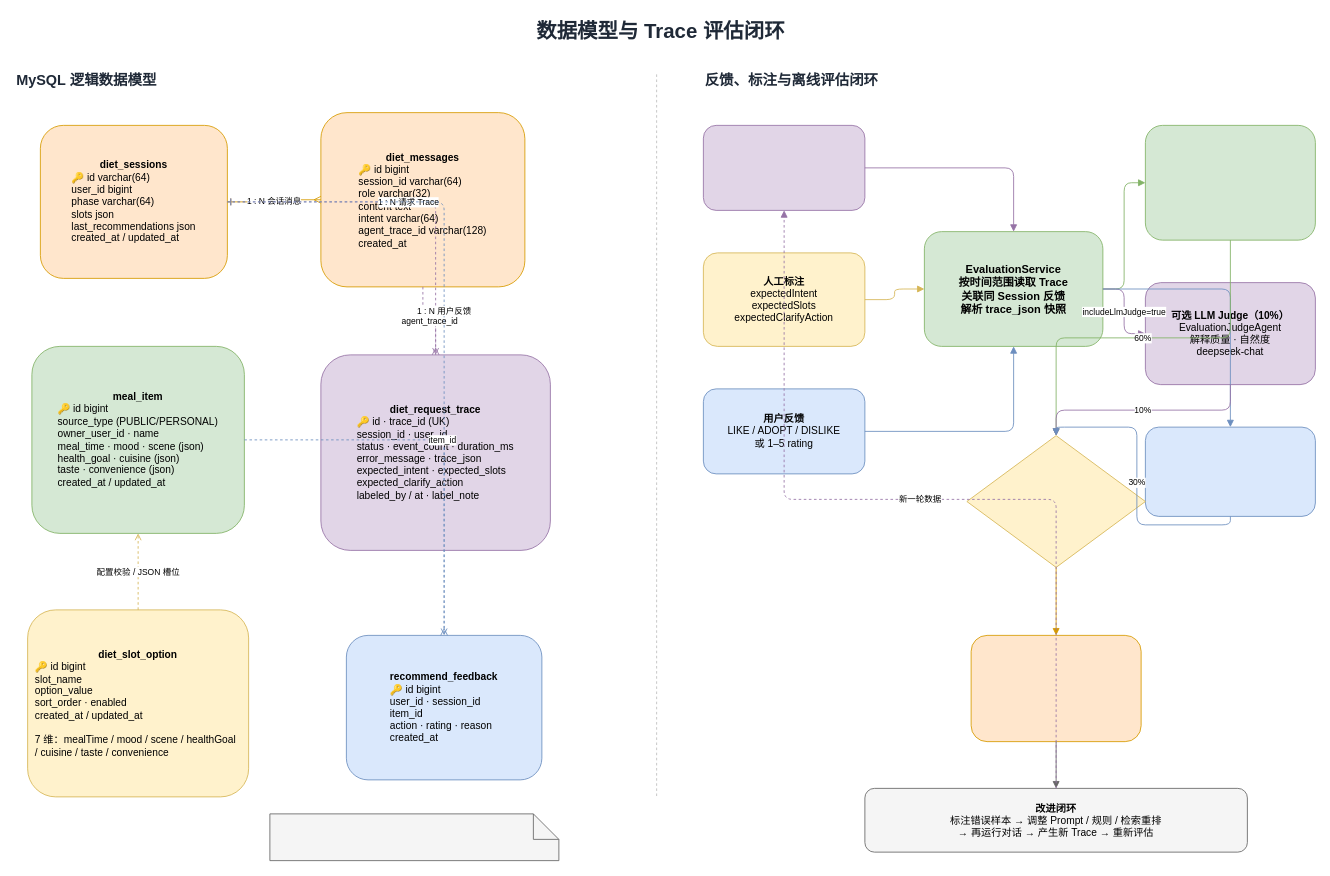
Image size: 1330x876. Some labels were removed from this diagram. The shapes that lost their labels are listed below. From the top down, each one's box as (x1, y1, x2, y2) in pixels, then its label:
(703, 125, 865, 210): 请求 Trace 状态机事件 · Agent I/O token · latency · fallback
(1145, 125, 1315, 240): 规则指标（60%） 意图准确率 · 槽位准确率 澄清准确率 · 成本 · 延迟 安全 · 幻觉 · 多轮一致性
(1145, 426, 1315, 516): 反馈得分（30%） rating 优先 否则 action 映射 0–1
(966, 435, 1145, 567): 加权综合分 按实际存在的指标权重归一 缺失指标不按 0 分处理
(970, 635, 1141, 742): EvaluationReport 逐 Trace 结果 指标平均值 规则 / Judge / 反馈 / 总分
(269, 813, 559, 861): 虚线表示代码中的逻辑关联；SQL 脚本当前未声明显式 FOREIGN KEY。
